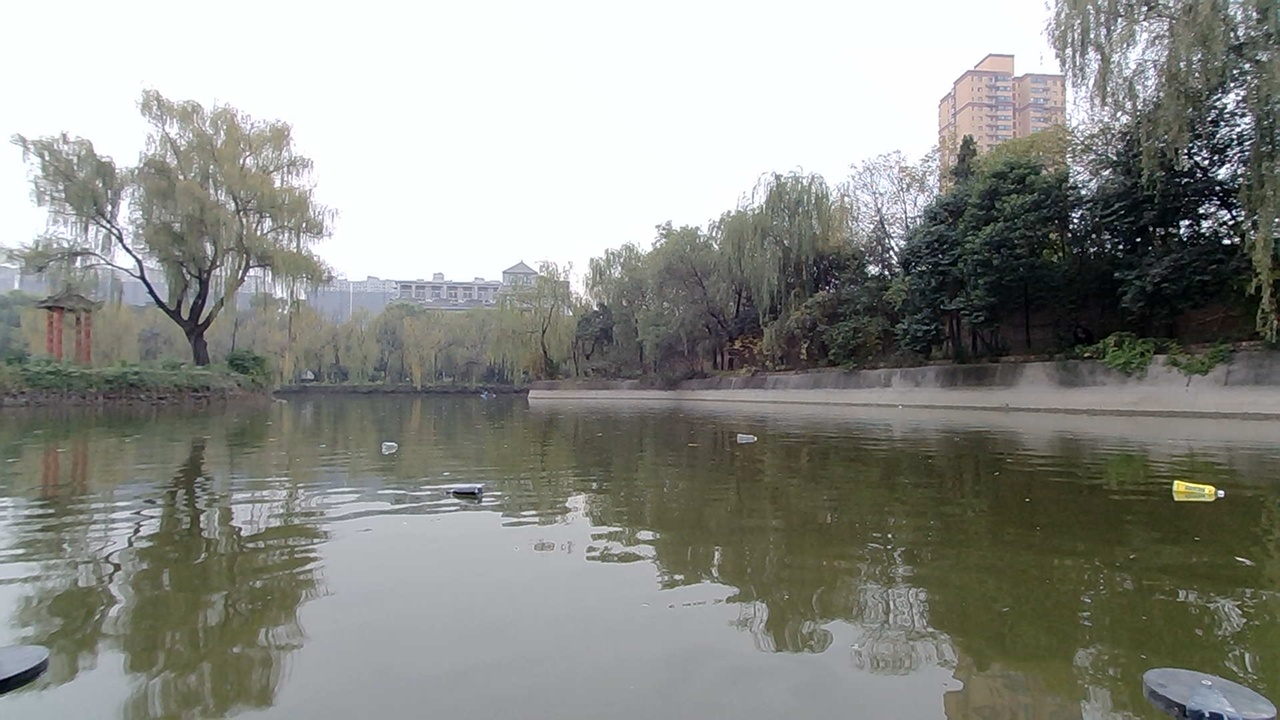bottle: (443, 477, 496, 513), (1171, 474, 1217, 510), (726, 418, 771, 450), (371, 432, 409, 467)
